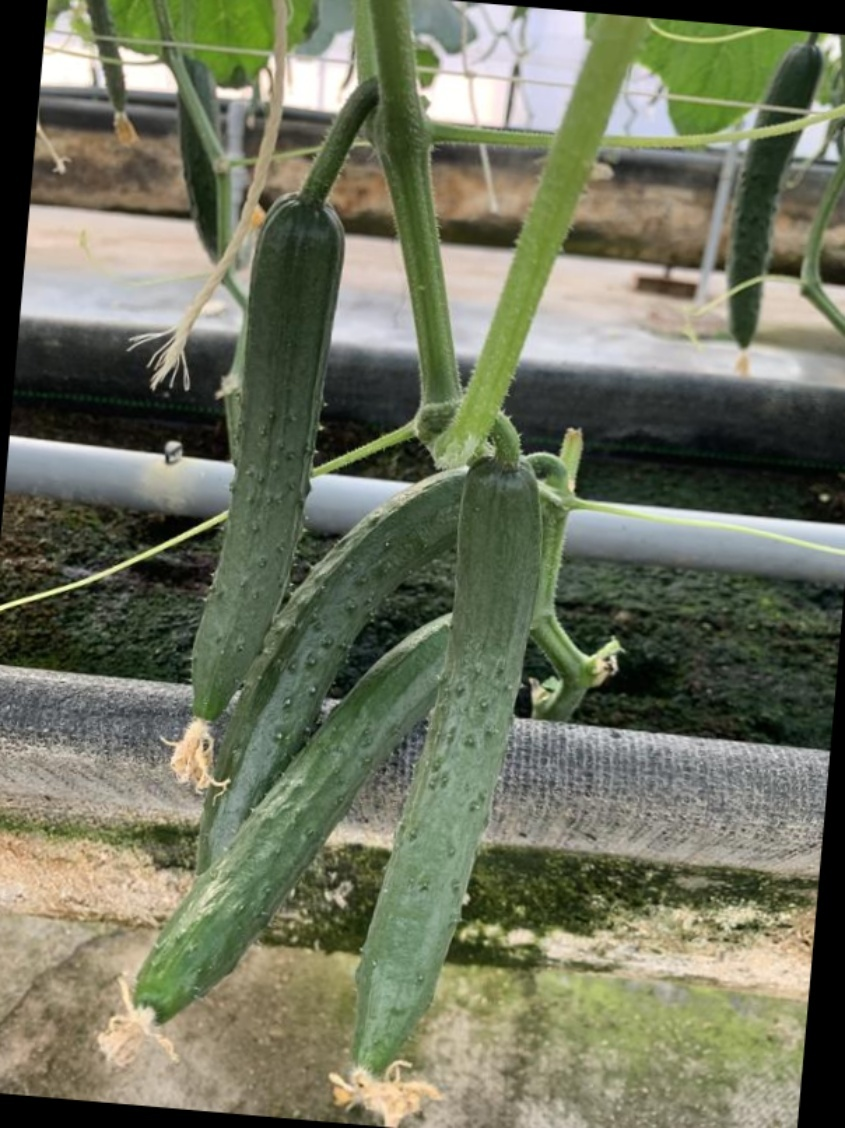mature: (135, 612, 453, 1017)
